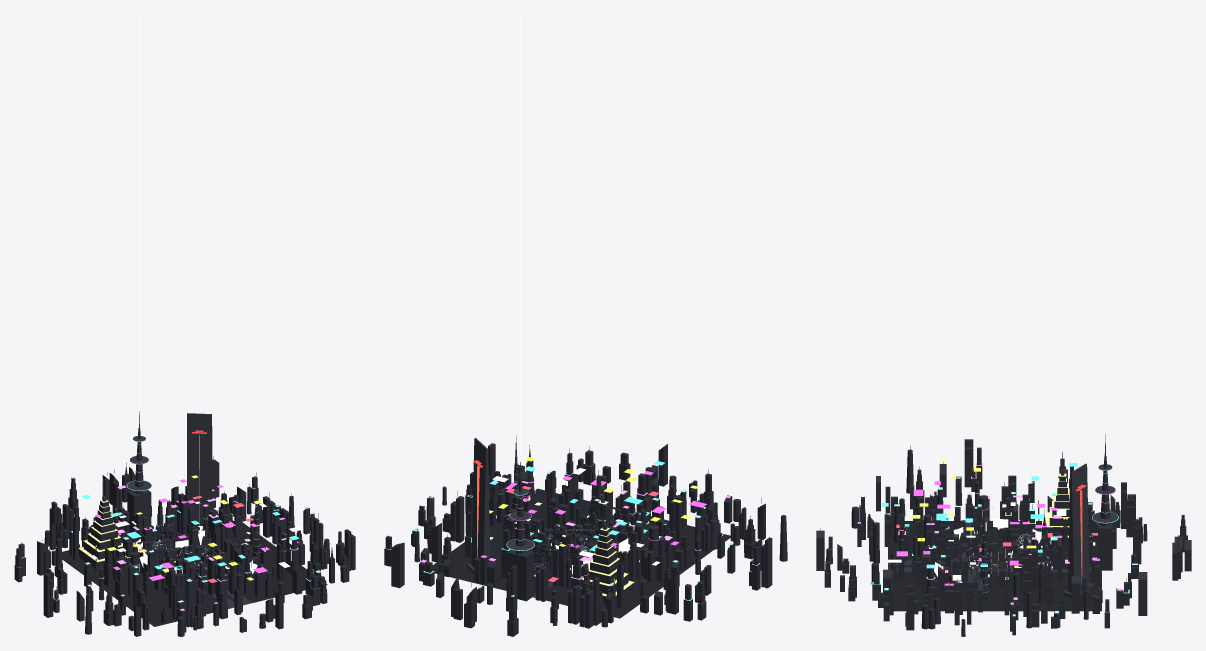
The model's file is city.glb.
The picture shows the model from 3 angles, left to right: view 1: azimuth 30°, elevation 25°; view 2: azimuth 150°, elevation 25°; view 3: azimuth 270°, elevation 25°; orthographic projection. The views are drawn at different scales.
Parts seen in each view (by area): view 1: web_Arc_T0, web_Arc_Crown, web_Road, web_CrownTrim_NeonTube_mag, web_CrownName53, web_BB4; view 2: web_Arc_T0, web_Arc_Crown, web_Road; view 3: web_Arc_T0, web_Road, web_Arc_Crown, web_CrownTrim_NeonTube_mag.
Part boxes in pixels (box(x1,y1,x2,y2)): web_Arc_T0: box(14, 428, 355, 636); web_Arc_Crown: box(21, 411, 333, 608); web_Road: box(62, 513, 327, 626); web_CrownTrim_NeonTube_mag: box(95, 479, 298, 580); web_CrownName53: box(81, 494, 299, 582); web_BB4: box(133, 516, 291, 573); web_Arc_T0: box(384, 443, 787, 636); web_Arc_Crown: box(388, 436, 761, 597); web_Road: box(432, 488, 730, 618); web_Arc_T0: box(816, 439, 1191, 636); web_Road: box(888, 521, 1101, 611); web_Arc_Crown: box(820, 434, 1180, 597); web_CrownTrim_NeonTube_mag: box(896, 481, 1099, 585).
Size of the model in its own units: 2030 by 3421 by 2106.
